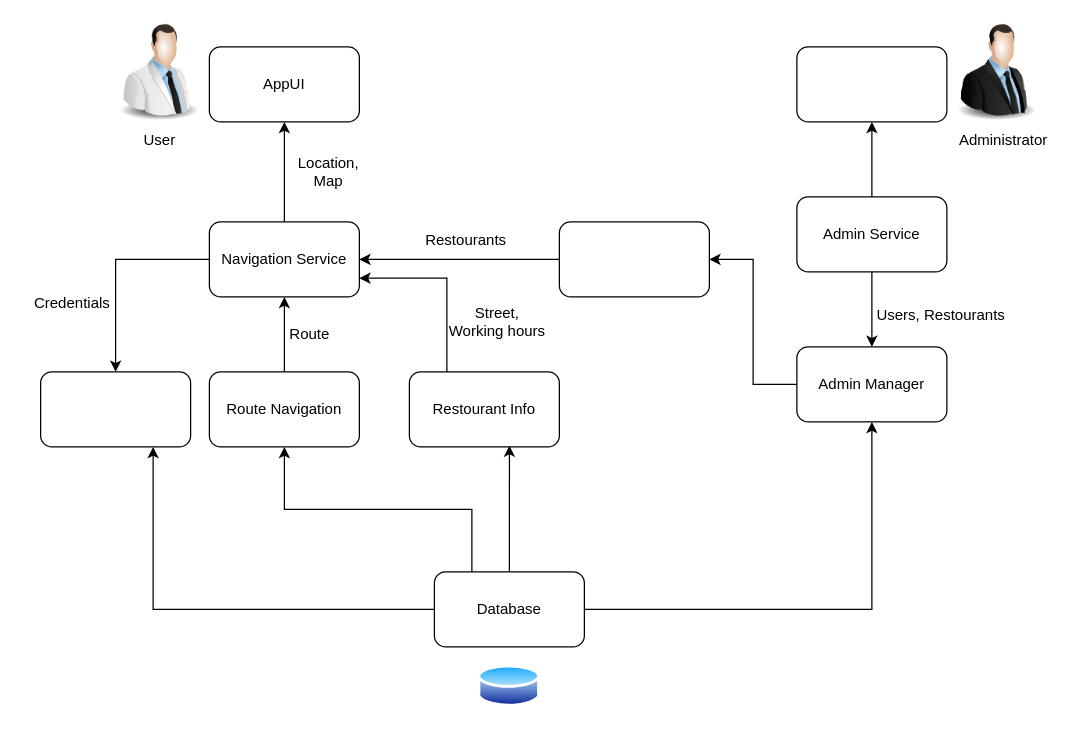
This 1080x730 diagram has some shape labels left out. The centre of each missing label's shape, as x and y in pixels:
Admin Panel: (871,84)
Search: (633,259)
User Manager: (115,409)
